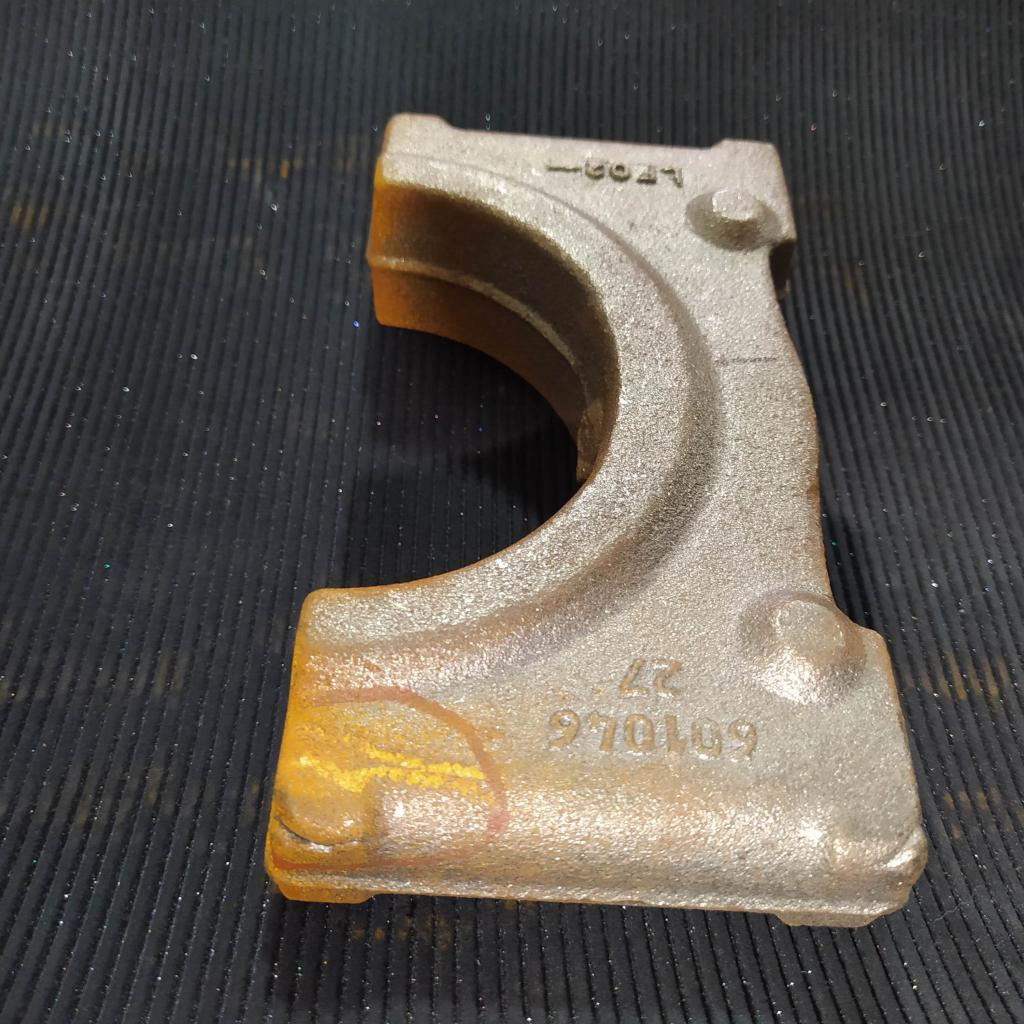rechupe: (271, 812, 365, 855), (875, 819, 931, 872)
